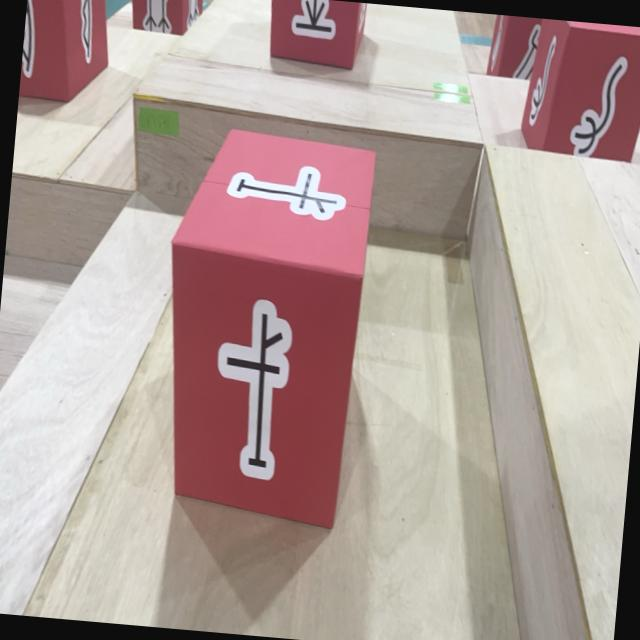10: (514, 21, 542, 78), (490, 14, 504, 72)
11: (72, 0, 97, 64), (20, 0, 40, 77)
13: (568, 51, 629, 160), (528, 33, 558, 128)
6: (137, 0, 176, 35), (182, 0, 201, 30)
7: (289, 0, 338, 41), (358, 2, 366, 32)
9: (207, 295, 296, 481), (225, 159, 348, 223)
fighter: (146, 124, 376, 532), (518, 17, 640, 163), (18, 0, 116, 106), (265, 0, 366, 70), (487, 14, 542, 81), (127, 0, 203, 36)
